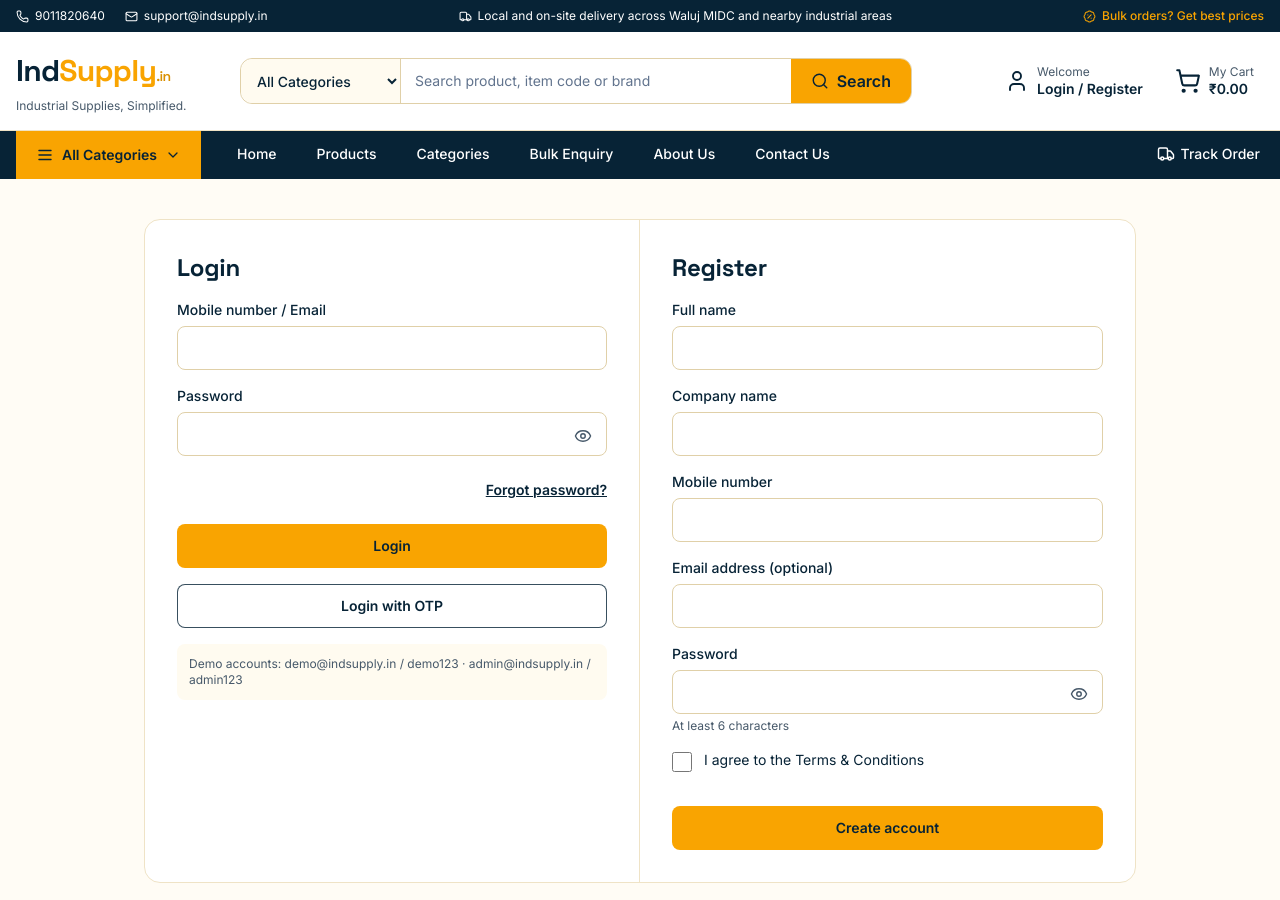
Scenario: login flow › shows a clear error for a wrong password
Type "demo@indsupply.in" into the field labelled "Mobile number / Email" at point(392, 348), box [177,326,607,370]
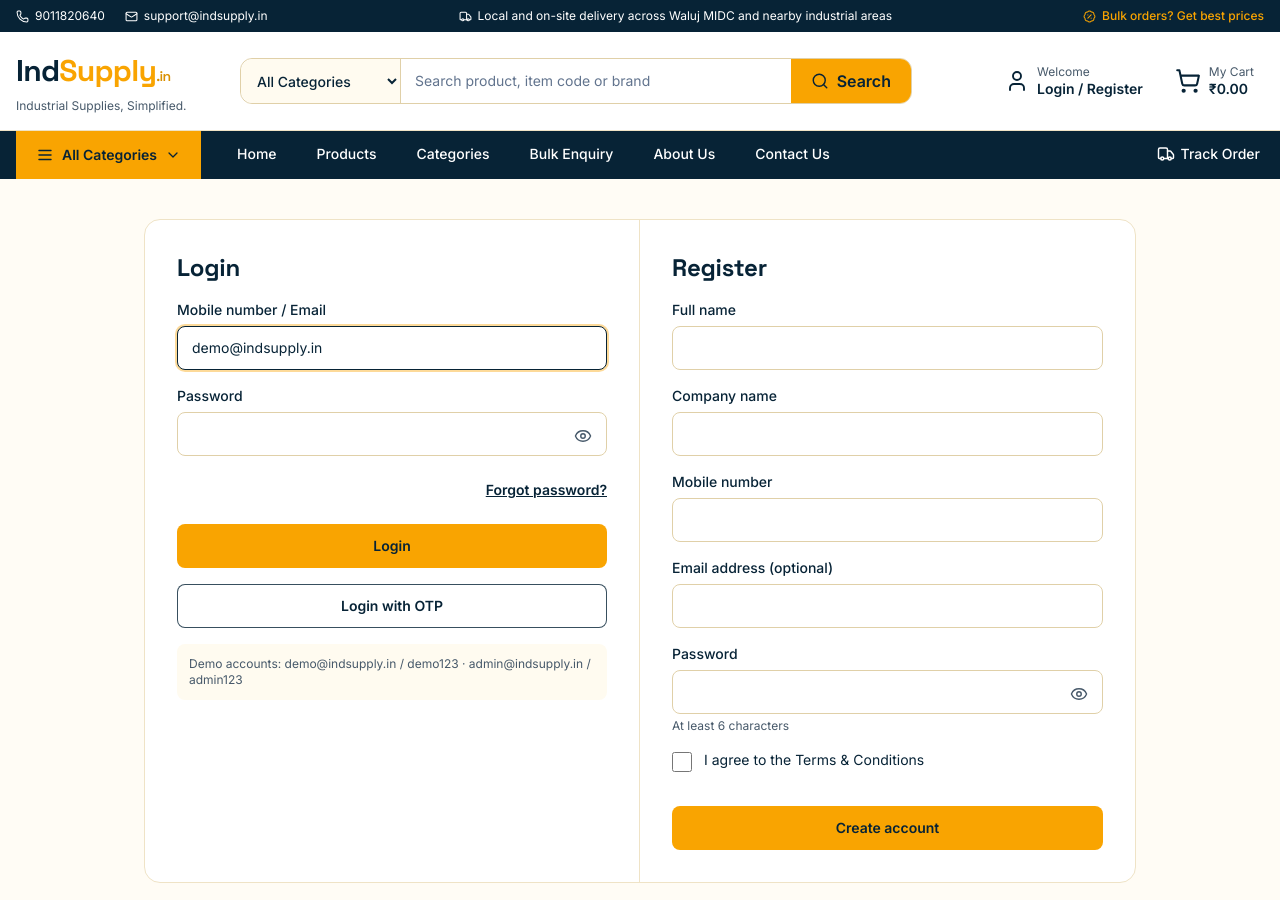
Type "wrong" into the password field labelled "Password" below "Mobile number / Email" at point(392, 434), box [177,412,607,456]
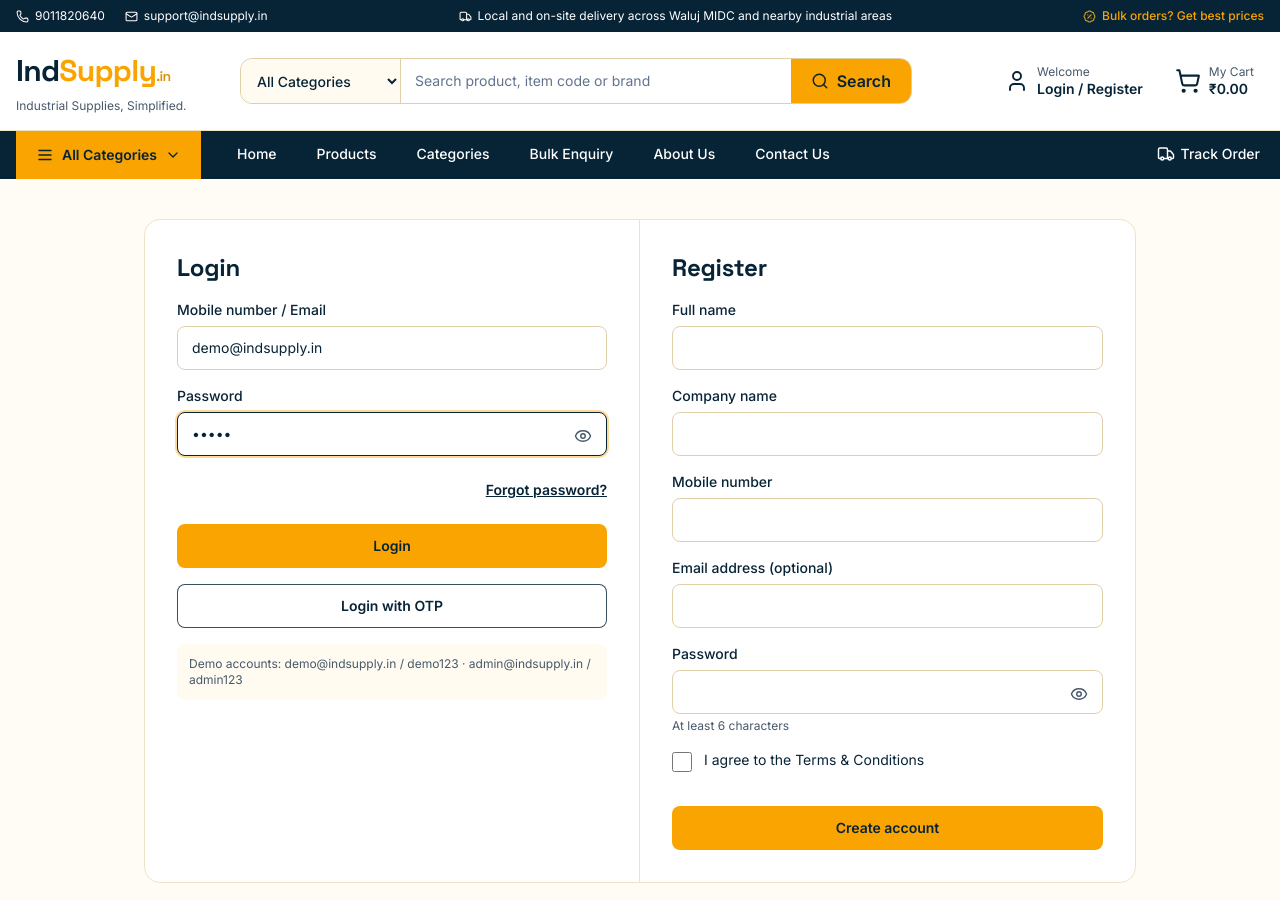
Click the button "Login" at point(392, 546), box [177,524,607,568]
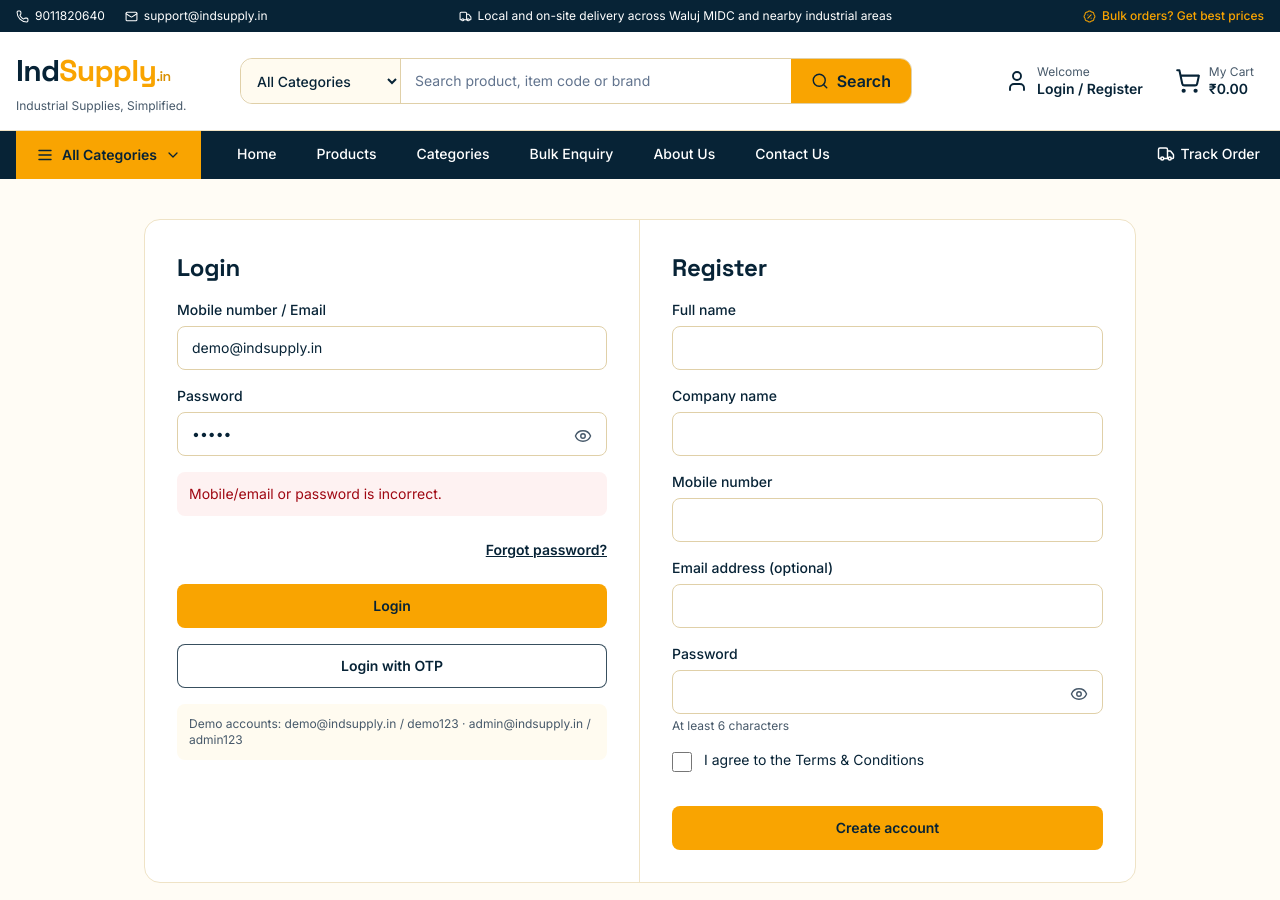
Check: the message shows "incorrect", box [189,485,442,502]
